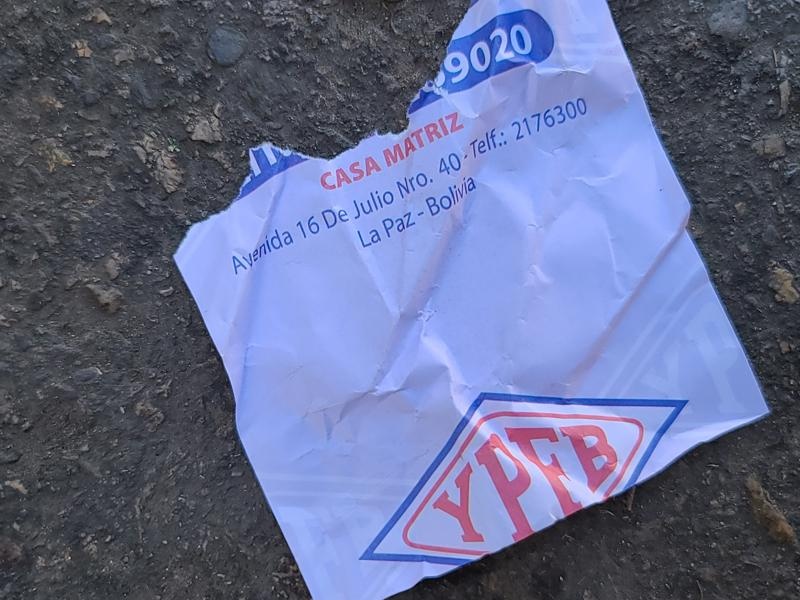papel: (171, 0, 771, 600)
